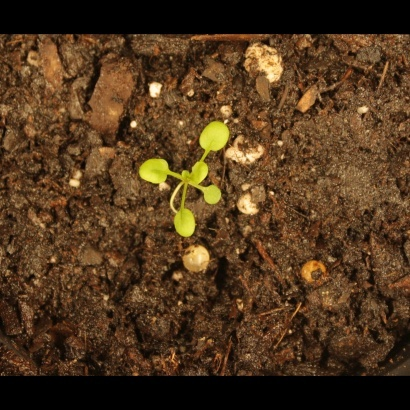leaf: (166, 203, 201, 243), (138, 156, 175, 190), (198, 121, 232, 153), (203, 182, 231, 212), (191, 160, 214, 188), (176, 165, 199, 188)
